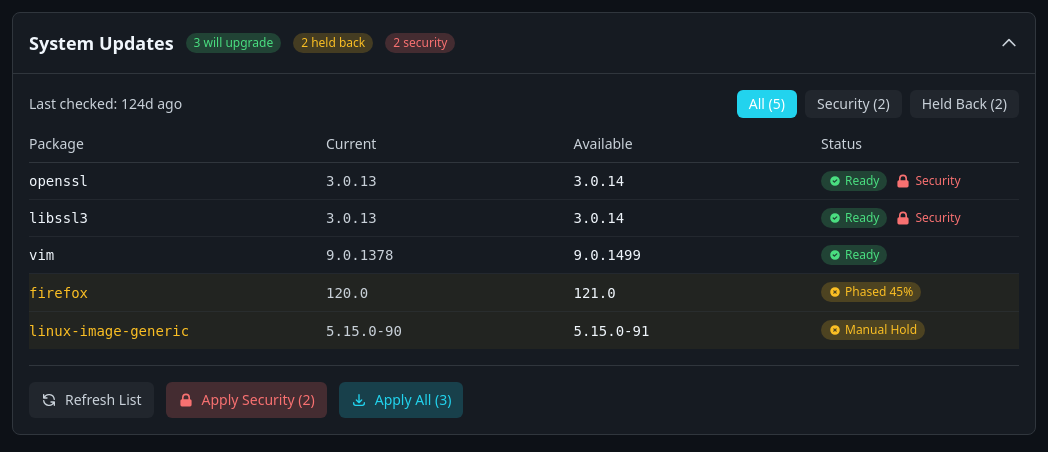
Test: PackageList › filter toggle (US0051 AC4, US0198) › filters to security only when clicked
Click the button with test id "filter-security".
click(853, 104)  # box x1=805 y1=90 x2=902 y2=118
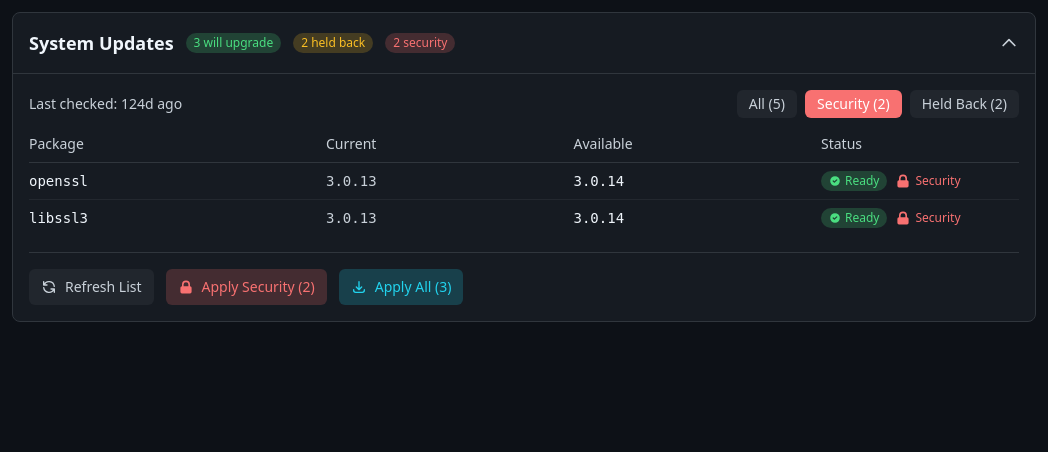
Expected: the text "openssl" is shown, x1=29 y1=173 x2=88 y2=189
Now the text "vim" is gone
Now the text "firefox" is gone
